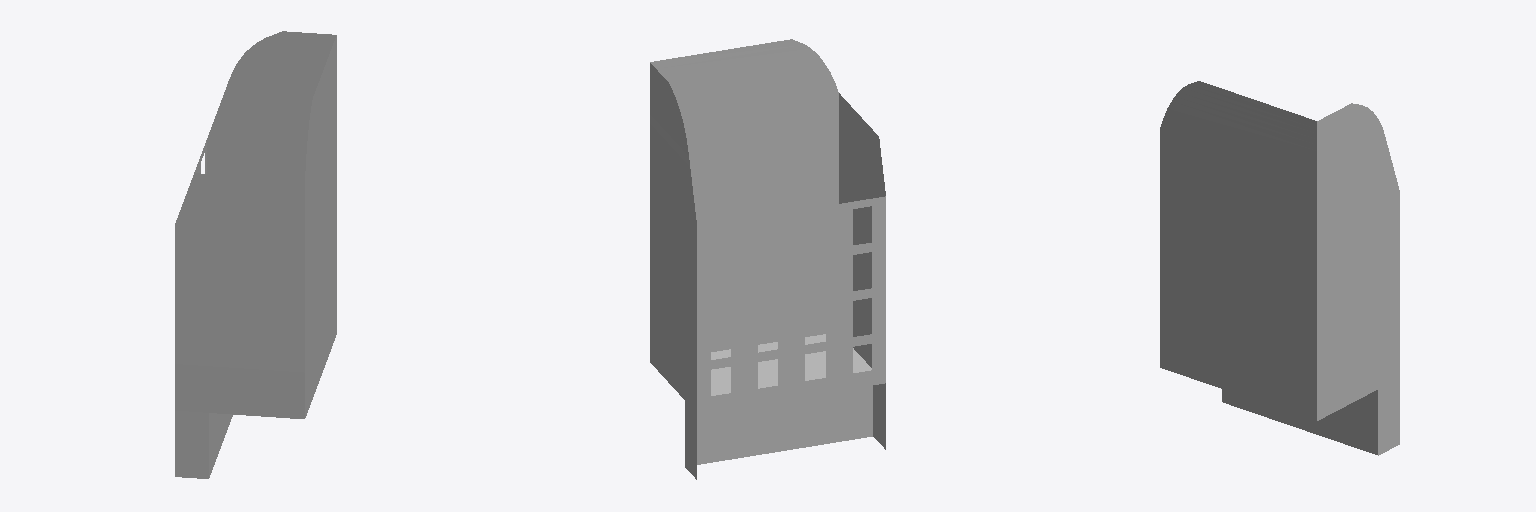
The picture shows the model from 3 angles: view 1: azimuth 30°, elevation 25°; view 2: azimuth 150°, elevation 25°; view 3: azimuth 270°, elevation 25°; orthographic projection.
Parts seen in each view (by area): view 1: Bistro_Research_Exterior_paris_building_04_4993; view 2: Bistro_Research_Exterior_paris_building_04_4993; view 3: Bistro_Research_Exterior_paris_building_04_4993.
Part boxes in pixels (x1,y1,x2,y2): Bistro_Research_Exterior_paris_building_04_4993: (175, 31, 336, 478); Bistro_Research_Exterior_paris_building_04_4993: (650, 39, 885, 479); Bistro_Research_Exterior_paris_building_04_4993: (1160, 81, 1399, 455).
Size of the model in its own units: 21.8 by 38.39 by 22.75.